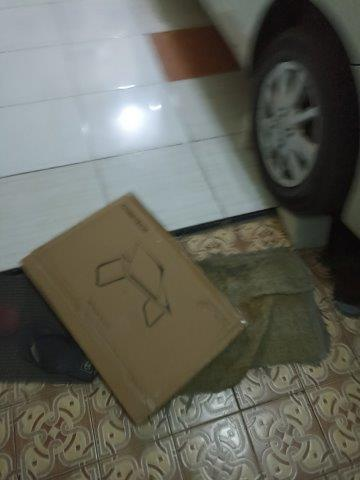kardus: (24, 195, 245, 417)
